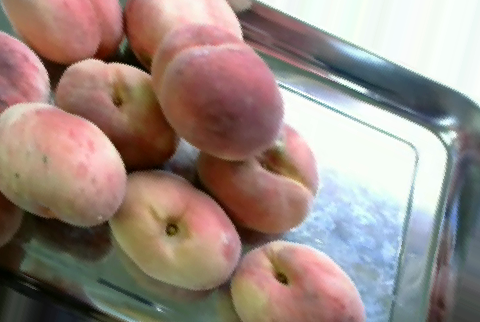Peach: (149, 23, 283, 159), (110, 169, 243, 289), (2, 102, 126, 227), (55, 57, 179, 170), (196, 120, 317, 233), (227, 238, 366, 322), (4, 0, 125, 64), (0, 30, 51, 127)
